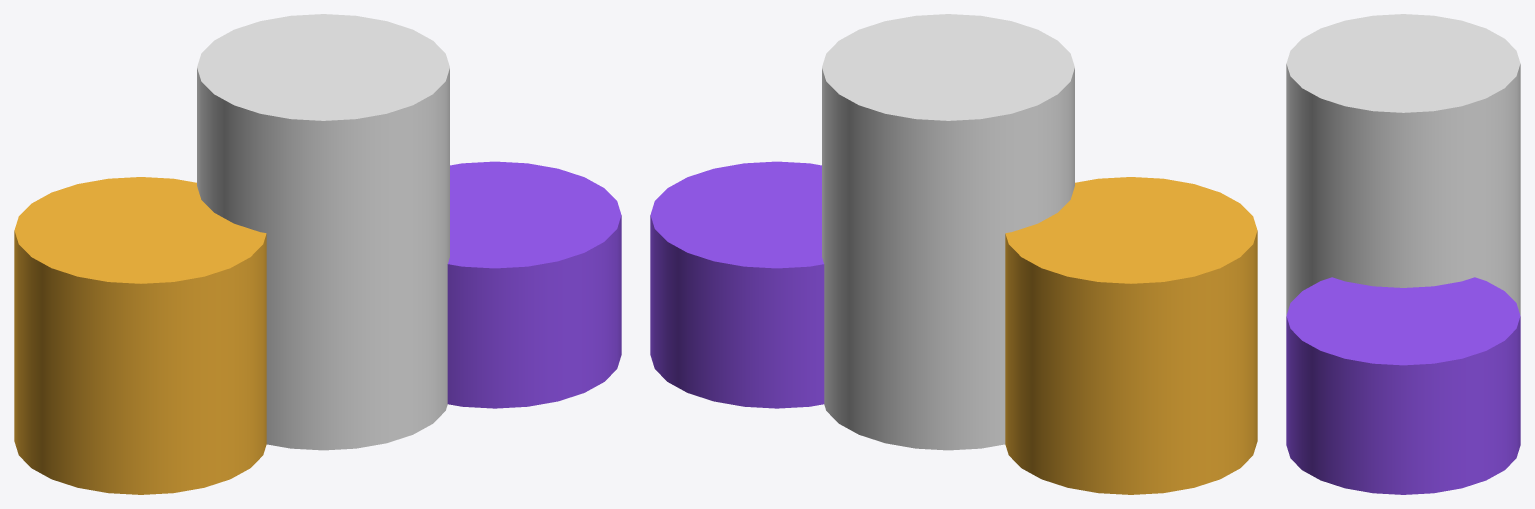
Rendered from Winners Pedestal Cylinder A.fbx.
The picture shows the model from 3 angles, left to right: view 1: azimuth 30°, elevation 25°; view 2: azimuth 150°, elevation 25°; view 3: azimuth 270°, elevation 25°; orthographic projection. The views are drawn at different scales.
Parts seen in each view (by area): view 1: Winners Pedestal Cylinder A; view 2: Winners Pedestal Cylinder A; view 3: Winners Pedestal Cylinder A.
Boxes of the visible parts, x1=… form: Winners Pedestal Cylinder A: x1=14, y1=14, x2=621, y2=494; Winners Pedestal Cylinder A: x1=650, y1=14, x2=1257, y2=494; Winners Pedestal Cylinder A: x1=1286, y1=14, x2=1520, y2=494.
Bounding box in the file's own units: 337 × 185 × 129.
